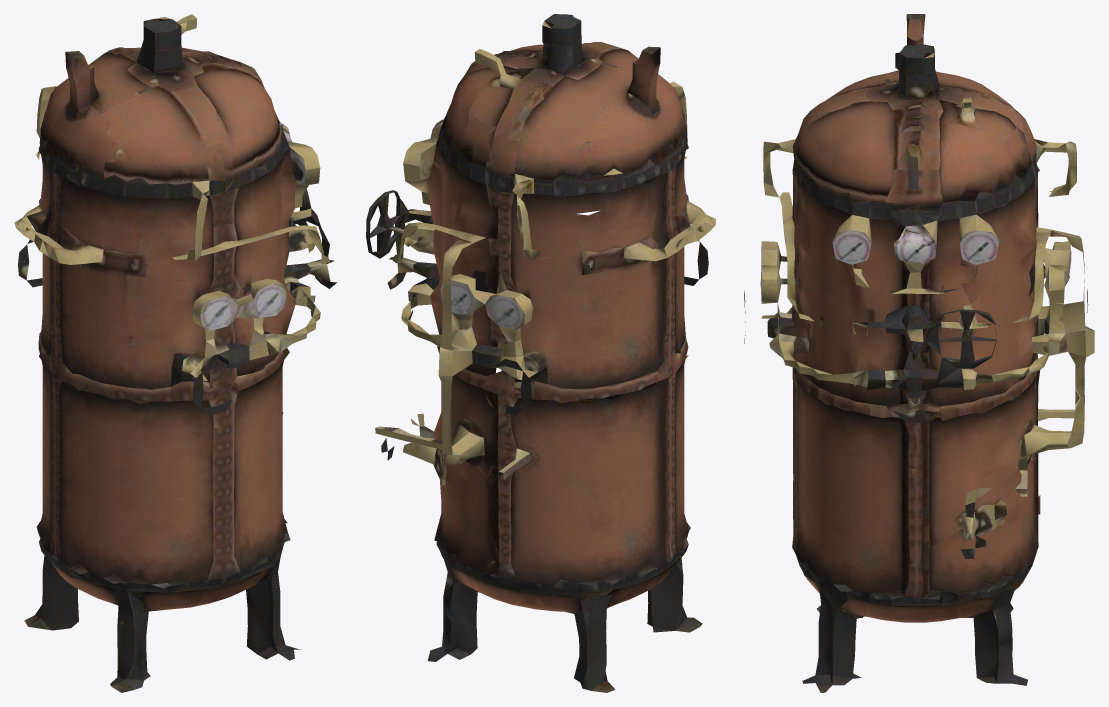
The model's file is reservoir.glb.
3 renders of one model, left to right at view 1: azimuth 30°, elevation 25°; view 2: azimuth 150°, elevation 25°; view 3: azimuth 270°, elevation 25°, orthographic. The views are drawn at different scales.
Parts seen in each view (by area): view 1: reservoir; view 2: reservoir; view 3: reservoir.
Part boxes in pixels (x1,y1,x2,y2): reservoir: (14,14,336,692); reservoir: (366,14,715,692); reservoir: (744,14,1094,692).
Size of the model in its own units: 2 by 3.9 by 2.06.
1 material, 1 textured.
